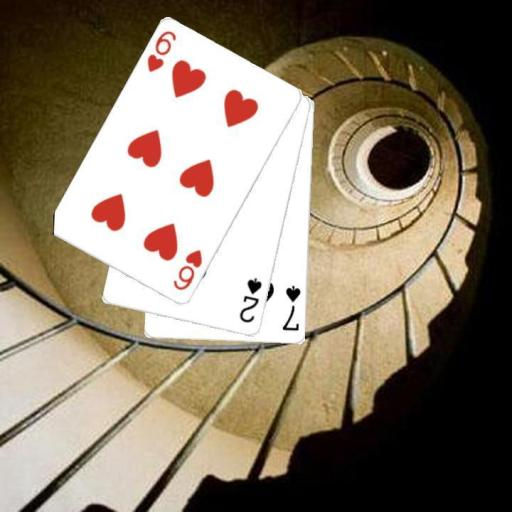card-corner: (144, 28, 178, 74), (170, 247, 204, 292), (236, 274, 264, 325), (280, 283, 302, 333)
